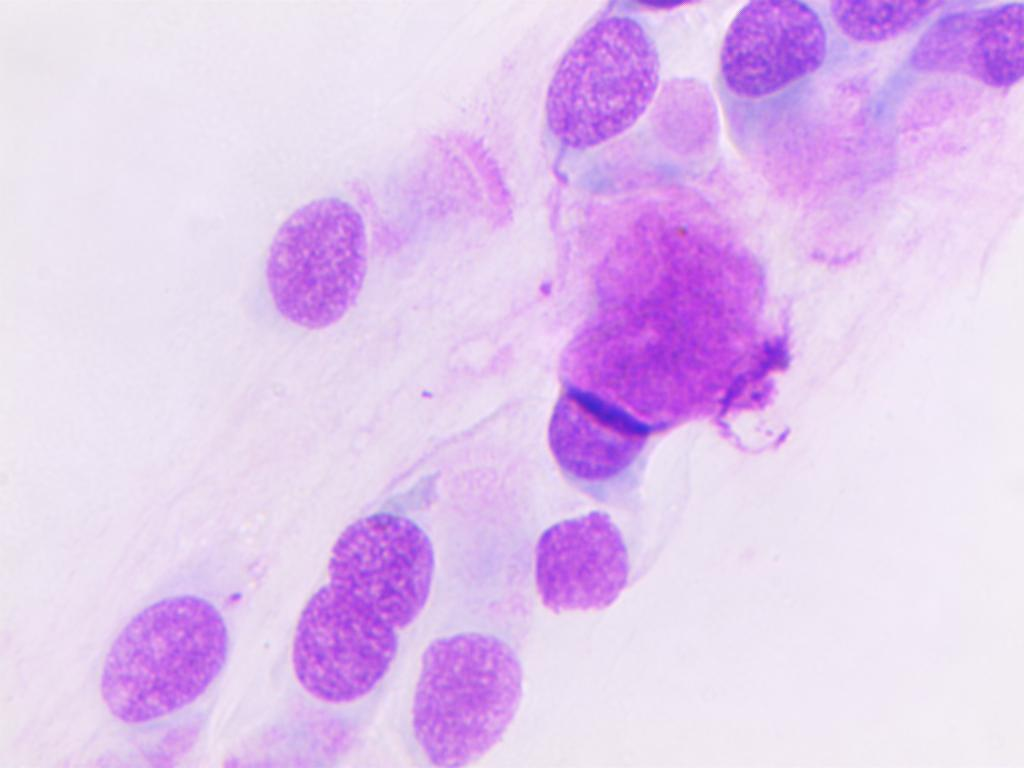ciliated: (232, 126, 525, 335)
epithelial: (78, 589, 227, 767), (539, 8, 670, 152), (412, 606, 527, 760), (319, 478, 436, 628), (271, 579, 400, 710), (506, 494, 642, 610), (883, 0, 1024, 100), (711, 0, 824, 96), (821, 0, 963, 52), (651, 73, 725, 159)
goblet_cell: (543, 246, 773, 479)
